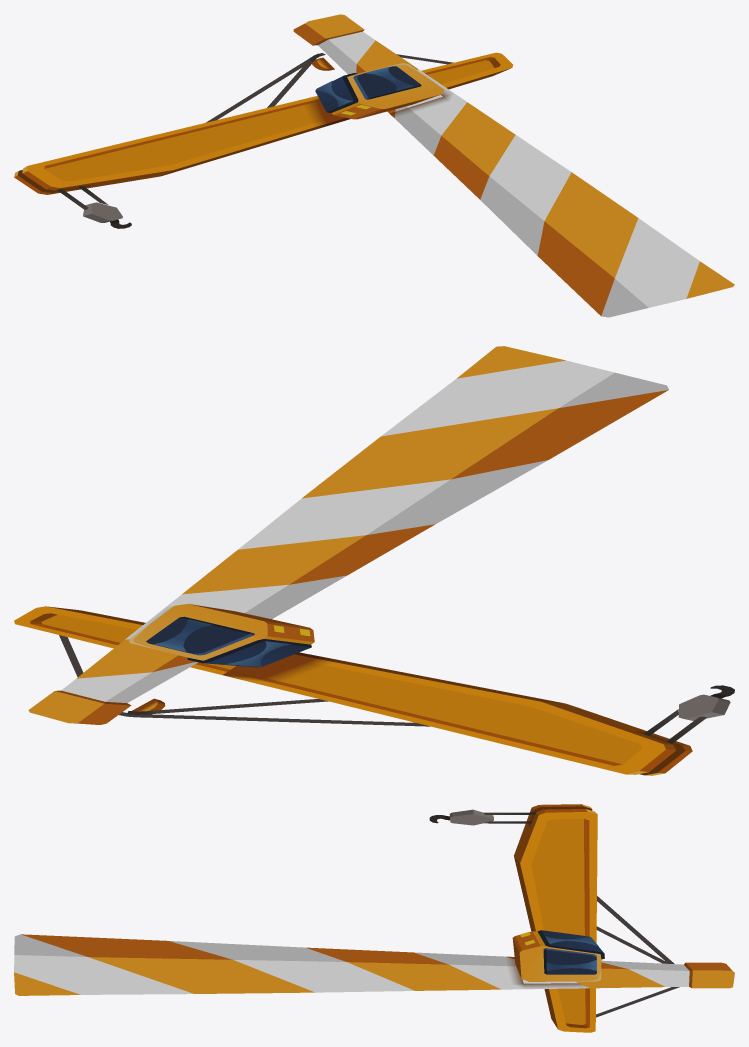
File: craneCard.fbx
3 renders of one model, top to bottom at view 1: azimuth 30°, elevation 25°; view 2: azimuth 150°, elevation 25°; view 3: azimuth 270°, elevation 25°, orthographic. The views are drawn at different scales.
Visible parts, largest first — view 1: crane; view 2: crane; view 3: crane.
Part boxes in pixels (box(x1,y1,x2,y2)): crane: box(14, 14, 734, 317); crane: box(14, 346, 734, 775); crane: box(14, 804, 734, 1032).
Bounding box in the file's own units: 350 × 10.82 × 466.
